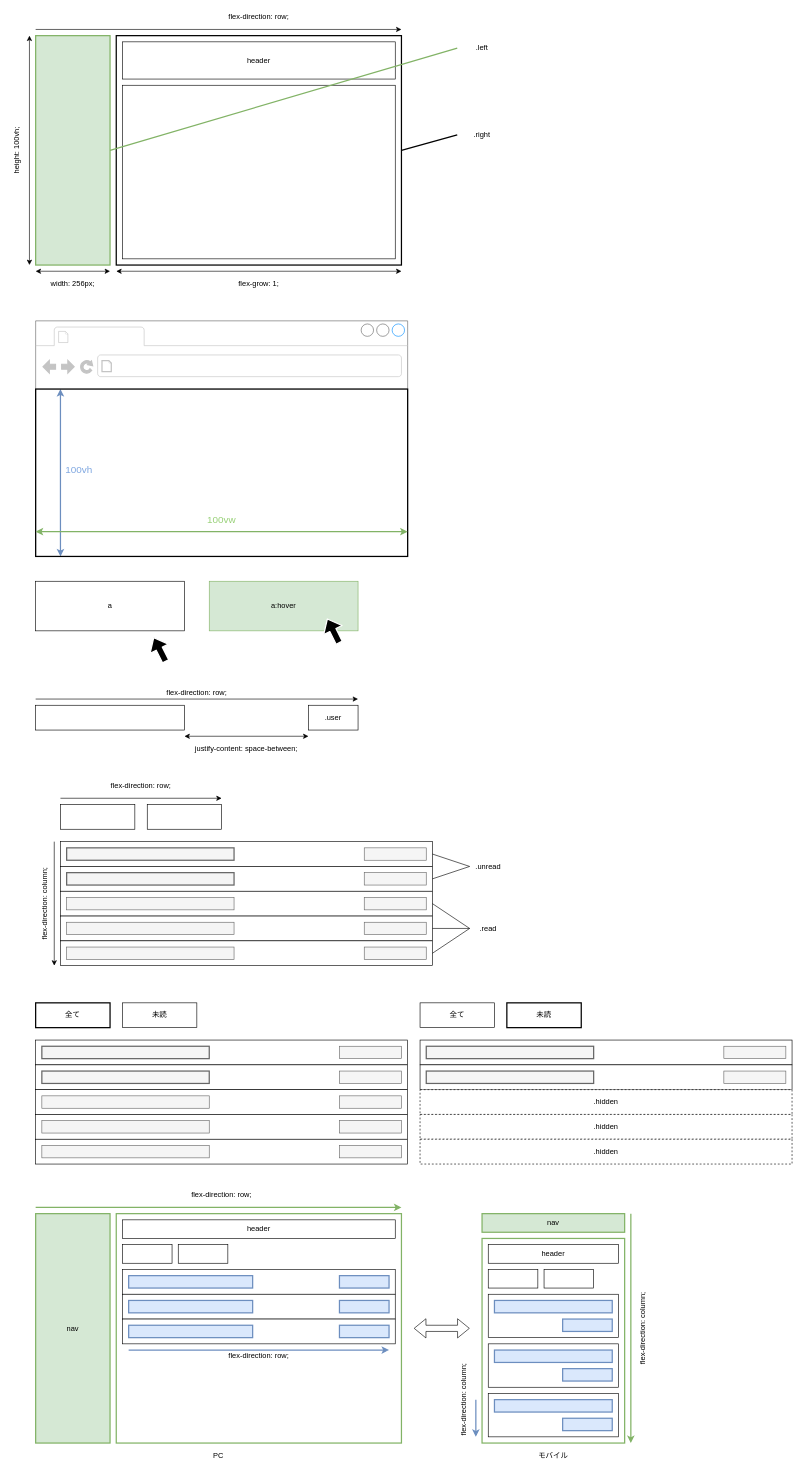
Some shapes in this 803 by 1472 pixel diagram are drawn without their labels. The centre of each missing label's shape, as x and y in pixels:
".search" belongs at (x=109, y=717).
"https://www.example.com" belongs at (x=193, y=365).
"main" belongs at (x=258, y=172).
"Page 1" belongs at (x=106, y=336).
